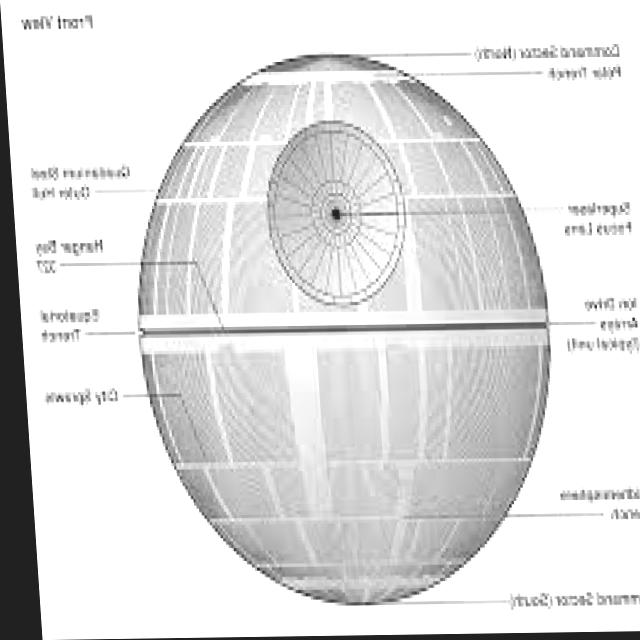deathStar: (128, 49, 558, 604)
